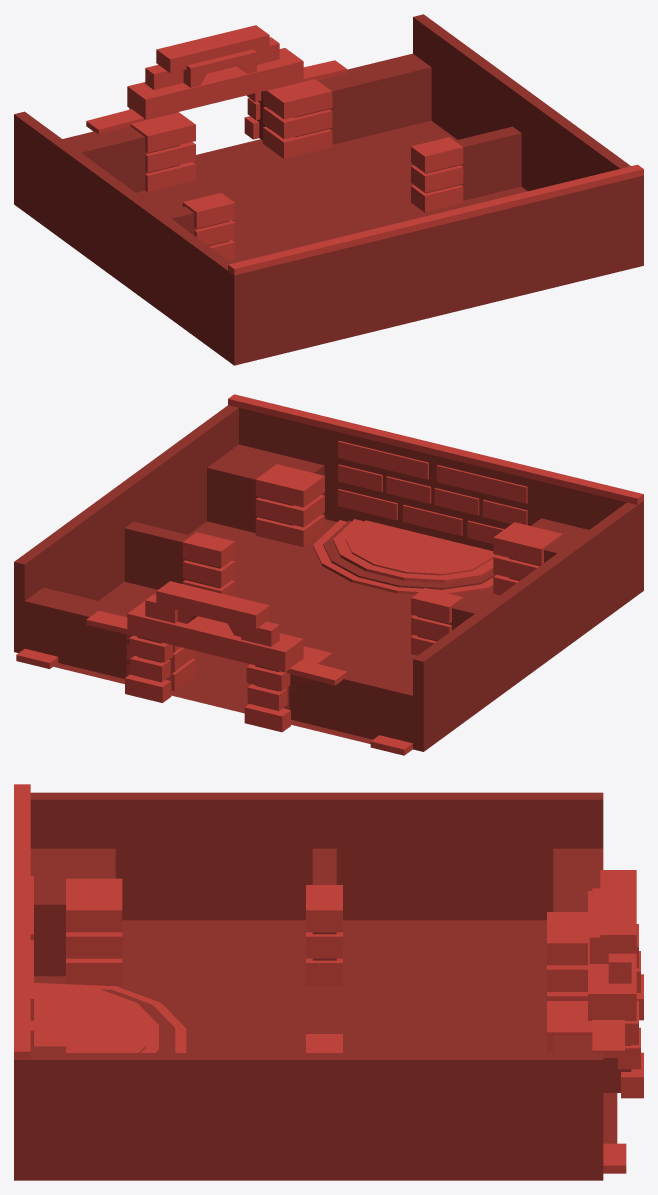
The model's file is Furnace.fbx.
3 views of the same model, one above another, from view 1: azimuth 30°, elevation 25°; view 2: azimuth 150°, elevation 25°; view 3: azimuth 270°, elevation 25° (orthographic). The views are drawn at different scales.
Parts seen in each view (by area): view 1: Cube.018, Cube.013, Plane.001, Cube.003, Cube.008, Cube.017, Cube.005, Cube.004, Cube.007, Cube.006; view 2: Cube.018, Plane.001, Cube.003, Cube.013, Cube.012, Cube.004, Cube.008, Cube.017, Cylinder.005, Cube.005, Cube.016, Cube.015 (+5 smaller); view 3: Cube.018, Plane.001, Cube.012, Cube.003, Cube.004, Cube.008, Cylinder.005, Cube.017, Cube.007, Cube.005, Cylinder.006, Cylinder.004 (+3 smaller).
Part boxes in pixels (x1,y1,x2,y2): Cube.018: [14, 14, 643, 365]; Cube.013: [245, 178, 633, 362]; Plane.001: [136, 121, 527, 263]; Cube.003: [62, 53, 431, 192]; Cube.008: [162, 126, 521, 260]; Cube.017: [228, 164, 643, 275]; Cube.005: [127, 48, 303, 119]; Cube.004: [86, 37, 347, 140]; Cube.007: [156, 25, 269, 73]; Cube.006: [183, 49, 256, 87]; Cube.018: [14, 405, 643, 751]; Plane.001: [53, 519, 499, 743]; Cube.003: [24, 587, 412, 743]; Cube.013: [239, 408, 626, 550]; Cube.012: [207, 444, 588, 594]; Cube.004: [16, 594, 412, 755]; Cube.008: [124, 521, 483, 655]; Cube.017: [228, 394, 643, 504]; Cylinder.005: [345, 520, 496, 575]; Cube.005: [127, 601, 303, 672]; Cube.016: [338, 441, 527, 503]; Cube.015: [338, 464, 527, 525]; Cube.018: [14, 792, 603, 1180]; Plane.001: [34, 920, 617, 1143]; Cube.012: [30, 848, 122, 1052]; Cube.003: [547, 848, 603, 1052]; Cube.004: [592, 888, 643, 1173]; Cube.008: [306, 848, 342, 1052]; Cylinder.005: [34, 991, 145, 1052]; Cube.017: [14, 784, 30, 1059]; Cube.007: [600, 870, 636, 953]; Cube.005: [588, 891, 636, 1020]; Cylinder.006: [34, 986, 158, 1052]; Cylinder.004: [34, 983, 186, 1052].
Bounding box in the file's own units: 1388 × 350 × 1382.
